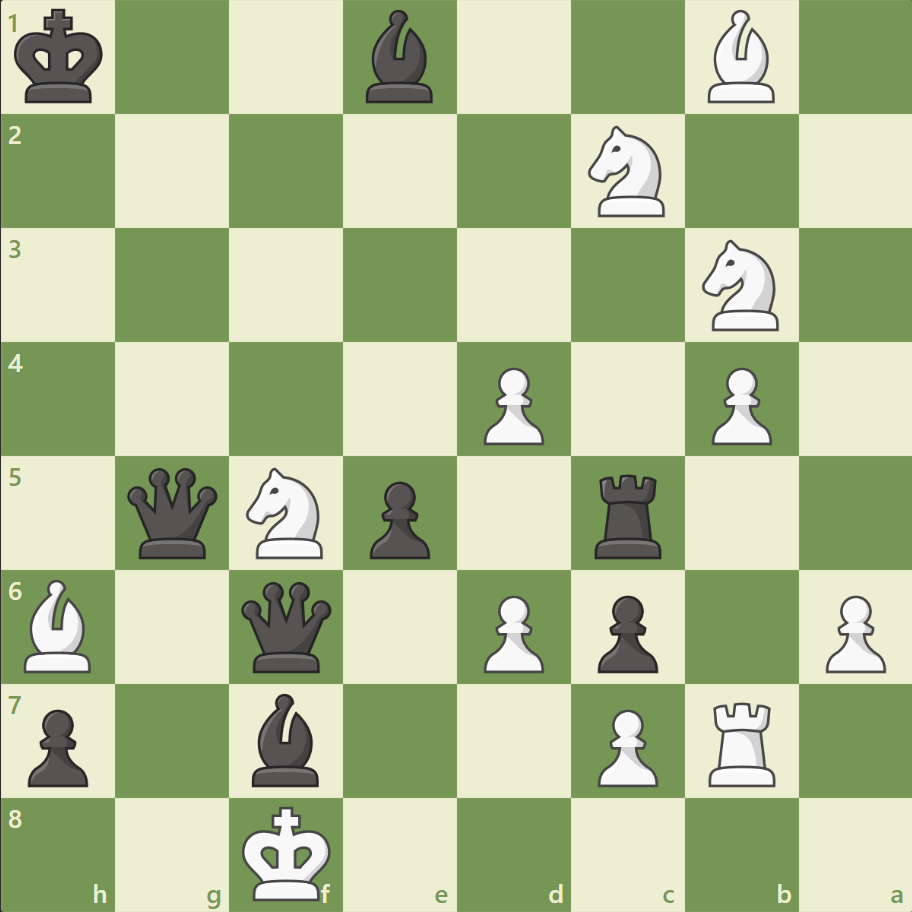B: (698, 6, 782, 109), (17, 574, 101, 676)
K: (238, 798, 338, 906)
N: (238, 461, 335, 564), (692, 234, 789, 337), (579, 121, 676, 223)
P: (474, 586, 549, 677), (701, 359, 776, 450), (474, 359, 549, 450), (588, 700, 662, 791), (815, 586, 889, 677)
R: (700, 693, 783, 790)
b: (244, 687, 328, 790), (358, 6, 442, 109)
k: (11, 4, 111, 112)
p: (20, 700, 95, 791), (588, 586, 662, 677), (361, 473, 435, 564)
q: (237, 576, 336, 676), (124, 463, 223, 562)
r: (587, 466, 670, 563)
